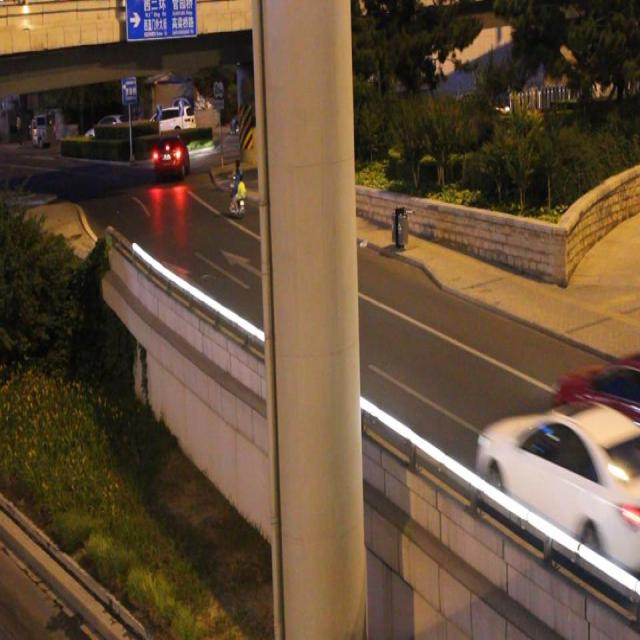car: (477, 399, 640, 582), (554, 354, 640, 489)
